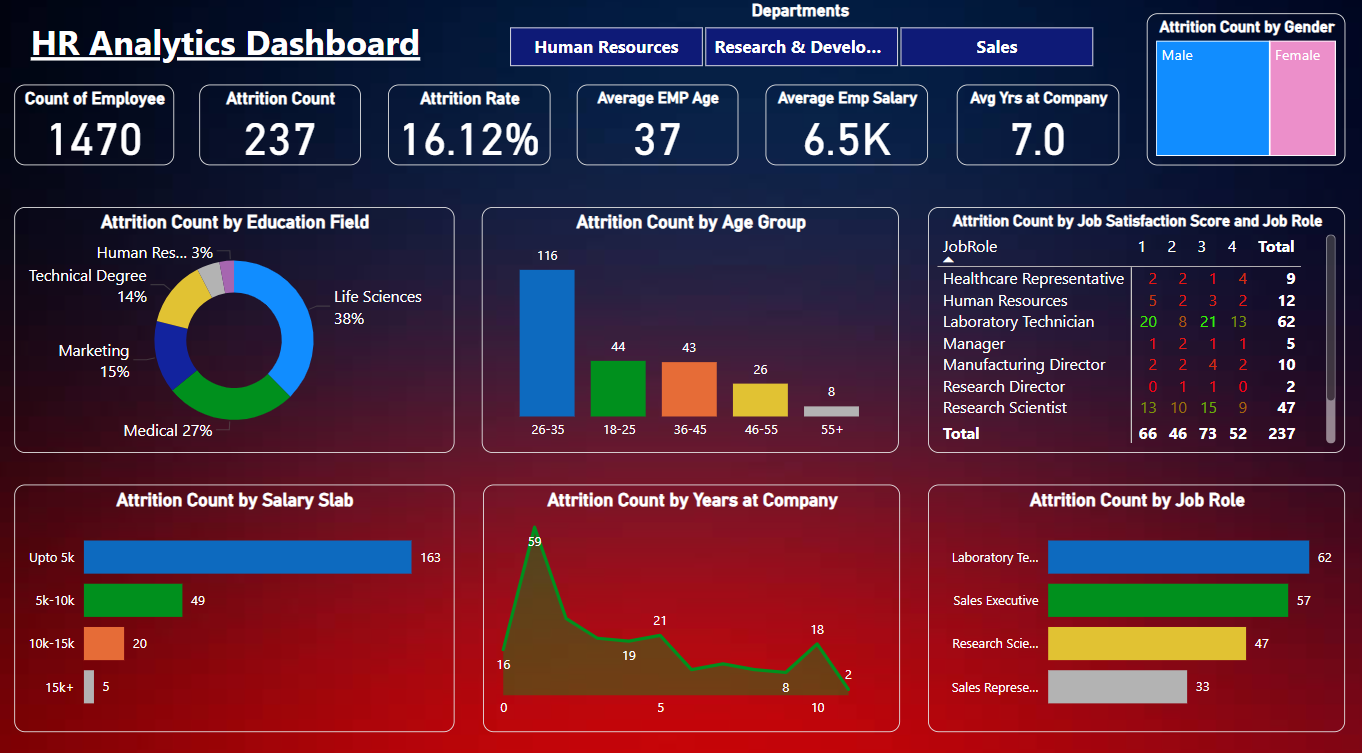

The dashboard page shown, as its layout file describes it:
{"tool":"powerbi","page":{"name":"Page 1","canvas":[1280,720],"ordinal":0},"visuals":[{"type":"card","title":"Count of Employee","fields":{"Values":["CountNonNull(HR_Analytics.EmpID)"]},"box":[19.5,86.3,148.8,75.6],"z":0},{"type":"card","title":"Attrition Count","fields":{"Values":["Sum(HR_Analytics.Attrition_Count)"]},"box":[191.6,86.5,150,75.6],"z":1000},{"type":"card","title":"Attrition Rate","fields":{"Values":["HR_Analytics.Attrition_rate"]},"box":[367.2,86.5,151.2,75.6],"z":2000},{"type":"card","title":"Average EMP Age","fields":{"Values":["Avg(HR_Analytics.Age)"]},"box":[543,86,150,75.6],"z":3000},{"type":"card","title":"Average Emp Salary","fields":{"Values":["Avg(HR_Analytics.MonthlyIncome)"]},"box":[718.4,86.5,151.2,75.6],"z":4000},{"type":"card","title":"Avg Yrs at Company","fields":{"Values":["Avg(HR_Analytics.YearsAtCompany)"]},"box":[896.3,86.5,151.2,75.6],"z":5000},{"type":"donutChart","title":"Attrition Count by Education Field","fields":{"Category":["HR_Analytics.EducationField"],"Y":["Sum(HR_Analytics.Attrition_Count)"]},"box":[19.8,200,409.3,229.1],"z":6000},{"type":"clusteredColumnChart","title":"Attrition Count by Age Group","fields":{"Y":["Sum(HR_Analytics.Attrition_Count)"],"Category":["HR_Analytics.AgeGroup"]},"box":[454.7,200,388.4,229.1],"z":7000},{"type":"pivotTable","title":"Attrition Count by Job Satisfaction Score and Job Role","fields":{"Rows":["HR_Analytics.JobRole"],"Columns":["HR_Analytics.JobSatisfaction"],"Values":["Sum(HR_Analytics.Attrition_Count)"]},"box":[869.8,200,388.4,229.1],"z":8000},{"type":"clusteredBarChart","title":"Attrition Count by Salary Slab","fields":{"Category":["HR_Analytics.SalarySlab"],"Y":["Sum(HR_Analytics.Attrition_Count)"]},"box":[19.8,458.1,409.3,230.2],"z":9000},{"type":"clusteredBarChart","title":"Attrition Count by Job Role","fields":{"Category":["HR_Analytics.JobRole"],"Y":["Sum(HR_Analytics.Attrition_Count)"]},"box":[869.8,458.1,388.4,230.2],"z":10000},{"type":"areaChart","title":"Attrition Count by Years at Company","fields":{"Category":["HR_Analytics.YearsAtCompany"],"Y":["Sum(HR_Analytics.Attrition_Count)"]},"box":[455.8,458.1,388.4,230.2],"z":11000},{"type":"treemap","title":"Attrition Count by Gender","fields":{"Group":["HR_Analytics.Gender"],"Values":["Sum(HR_Analytics.Attrition_Count)"]},"box":[1073.3,19.8,184.9,141.9],"z":12000},{"type":"slicer","title":"Departments","fields":{"Values":["HR_Analytics.Department"]},"box":[454.7,8.1,593,67.4],"z":13000},{"type":"textbox","box":[19.8,19.8,393,55.8],"z":14000}]}

Visuals, with their boxes in screenshot pixels (x1, y1, x2, y2), scaled from the page's 1280x720 canvas onto the 1362x753 screenshot:
"Count of Employee" card: locate(21, 90, 179, 169)
"Attrition Count" card: locate(204, 90, 363, 170)
"Attrition Rate" card: locate(391, 90, 552, 170)
"Average EMP Age" card: locate(578, 90, 737, 169)
"Average Emp Salary" card: locate(764, 90, 925, 170)
"Avg Yrs at Company" card: locate(954, 90, 1115, 170)
"Attrition Count by Education Field" donutChart: locate(21, 209, 457, 449)
"Attrition Count by Age Group" clusteredColumnChart: locate(484, 209, 897, 449)
"Attrition Count by Job Satisfaction Score and Job Role" pivotTable: locate(926, 209, 1339, 449)
"Attrition Count by Salary Slab" clusteredBarChart: locate(21, 479, 457, 720)
"Attrition Count by Job Role" clusteredBarChart: locate(926, 479, 1339, 720)
"Attrition Count by Years at Company" areaChart: locate(485, 479, 898, 720)
"Attrition Count by Gender" treemap: locate(1142, 21, 1339, 169)
"Departments" slicer: locate(484, 8, 1115, 79)
textbox: locate(21, 21, 439, 79)
